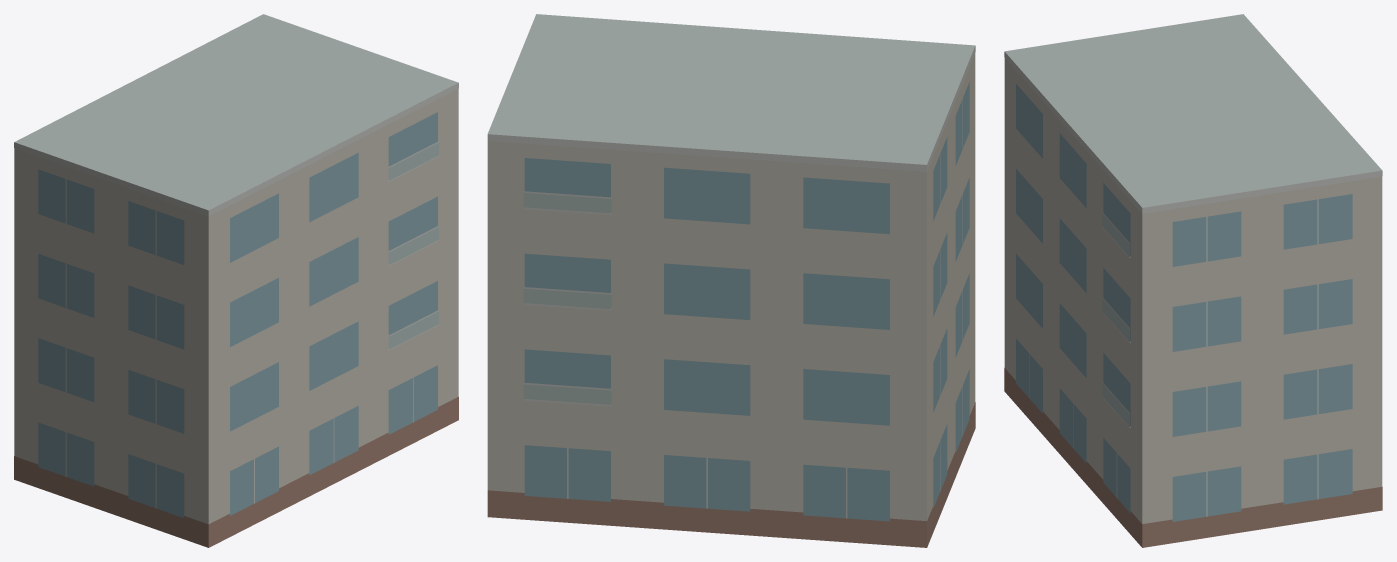
File: survey-upis-32852145.glb
3 views of the same model, side by side, from view 1: azimuth 30°, elevation 25°; view 2: azimuth 150°, elevation 25°; view 3: azimuth 270°, elevation 25° (orthographic). The views are drawn at different scales.
Parts seen in each view (by area): view 1: survey-upis-32852145.tmp; view 2: survey-upis-32852145.tmp; view 3: survey-upis-32852145.tmp.
Boxes of the visible parts, x1,y1,x2,y2 form: survey-upis-32852145.tmp: [14, 14, 458, 547]; survey-upis-32852145.tmp: [487, 14, 975, 547]; survey-upis-32852145.tmp: [1004, 14, 1382, 547].
Bounding box in the file's own units: 16.89 × 13.8 × 13.92.
